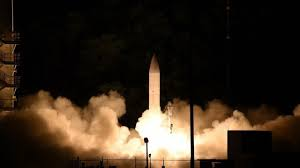ten_lua: (133, 45, 170, 131)
